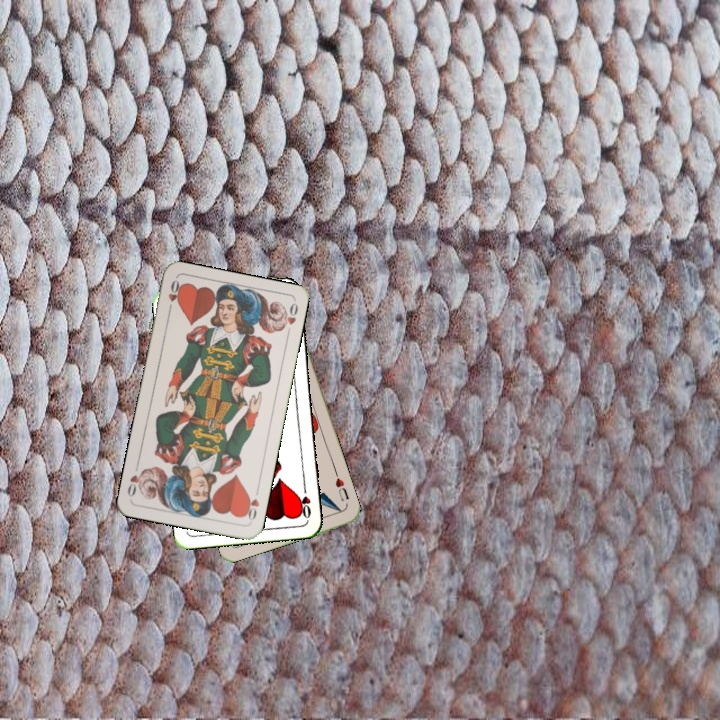HO: (240, 484, 262, 524), (164, 276, 184, 316), (295, 481, 314, 521)
HU: (331, 474, 352, 503)
